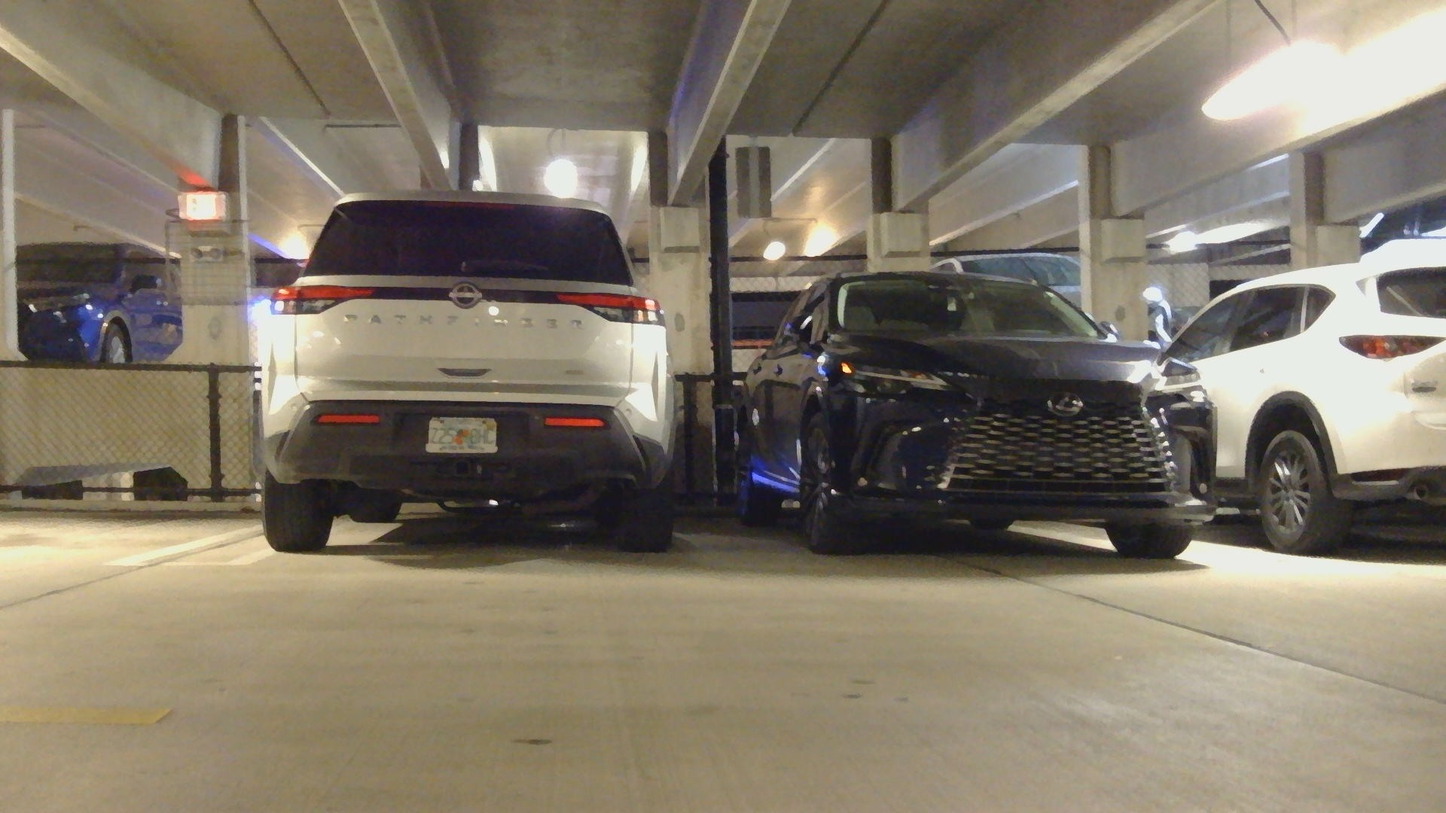empty_spot: (4, 508, 256, 574)
occupied_spot: (266, 196, 678, 553), (736, 275, 1213, 562), (1205, 256, 1438, 553)
